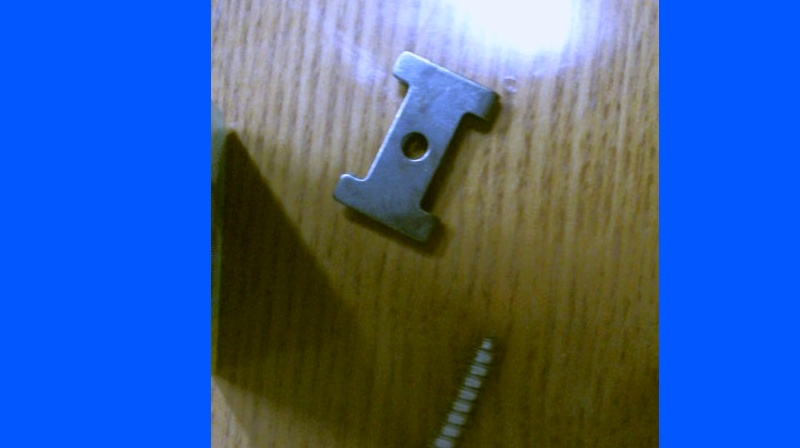O002: (329, 43, 502, 248)
S001: (386, 329, 500, 447)
